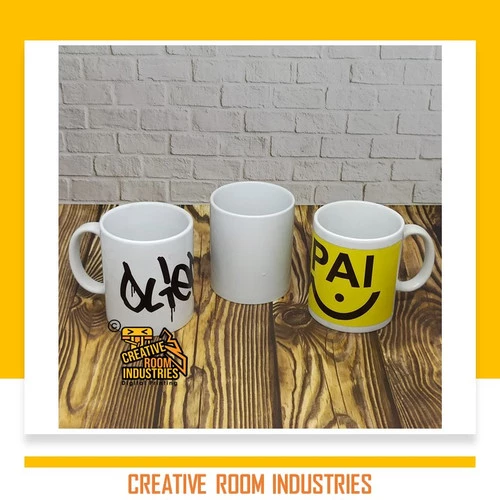gelas: (68, 192, 195, 340), (311, 201, 434, 332), (211, 183, 295, 300)
